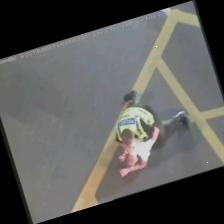person: (116, 91, 188, 176)
